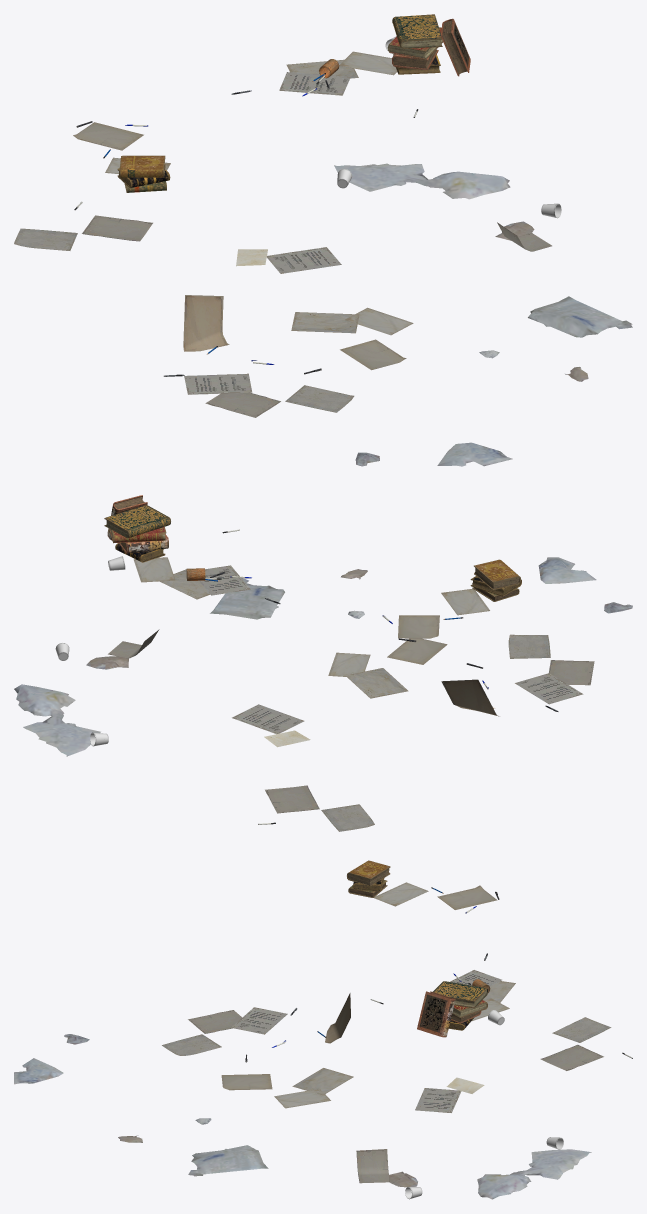
File: sm39_032_weskerdeskset01.fbx
3 renders of one model, top to bottom at view 1: azimuth 30°, elevation 25°; view 2: azimuth 150°, elevation 25°; view 3: azimuth 270°, elevation 25°, orthographic. The views are drawn at different scales.
Parts seen in each view (by area): view 1: LOD_1_Group_0_Sub_5__sm20_001_WastePaper01A_A_Mat, LOD_1_Group_0_Sub_3__sm36_011_Document01A_A_Mat, LOD_1_Group_4_Sub_1__sm7x_ItemCommon_Document01A_A_Mat, LOD_1_Group_0_Sub_6__sm36_001_BookSet01A_A_Mat, LOD_1_Group_5_Sub_1__sm7x_ItemCommon_Document01A_A_Mat, LOD_1_Group_6_Sub_1__sm36_001_BookSet01A_A_Mat, LOD_1_Group_4_Sub_2__sm36_011_Document01A_A_Mat, LOD_1_Group_3_Sub_1__sm36_011_Document01A_A_Mat; view 2: LOD_1_Group_0_Sub_5__sm20_001_WastePaper01A_A_Mat, LOD_1_Group_4_Sub_1__sm7x_ItemCommon_Document01A_A_Mat, LOD_1_Group_0_Sub_3__sm36_011_Document01A_A_Mat, LOD_1_Group_0_Sub_6__sm36_001_BookSet01A_A_Mat, LOD_1_Group_5_Sub_1__sm7x_ItemCommon_Document01A_A_Mat, LOD_1_Group_3_Sub_1__sm36_011_Document01A_A_Mat, LOD_1_Group_6_Sub_1__sm36_001_BookSet01A_A_Mat, LOD_1_Group_4_Sub_2__sm36_011_Document01A_A_Mat; view 3: LOD_1_Group_0_Sub_5__sm20_001_WastePaper01A_A_Mat, LOD_1_Group_4_Sub_1__sm7x_ItemCommon_Document01A_A_Mat, LOD_1_Group_0_Sub_3__sm36_011_Document01A_A_Mat, LOD_1_Group_0_Sub_6__sm36_001_BookSet01A_A_Mat, LOD_1_Group_5_Sub_1__sm7x_ItemCommon_Document01A_A_Mat, LOD_1_Group_3_Sub_1__sm36_011_Document01A_A_Mat, LOD_1_Group_6_Sub_1__sm36_001_BookSet01A_A_Mat, LOD_1_Group_4_Sub_2__sm36_011_Document01A_A_Mat.
Boxes of the visible parts, x1,y1,x2,y2 form: LOD_1_Group_0_Sub_5__sm20_001_WastePaper01A_A_Mat: (334,163,632,466); LOD_1_Group_0_Sub_3__sm36_011_Document01A_A_Mat: (183,295,413,370); LOD_1_Group_4_Sub_1__sm7x_ItemCommon_Document01A_A_Mat: (14,72,551,273); LOD_1_Group_0_Sub_6__sm36_001_BookSet01A_A_Mat: (387,14,470,76); LOD_1_Group_5_Sub_1__sm7x_ItemCommon_Document01A_A_Mat: (184,373,354,417); LOD_1_Group_6_Sub_1__sm36_001_BookSet01A_A_Mat: (117,155,170,192); LOD_1_Group_4_Sub_2__sm36_011_Document01A_A_Mat: (286,51,397,78); LOD_1_Group_3_Sub_1__sm36_011_Document01A_A_Mat: (73,122,170,174); LOD_1_Group_0_Sub_5__sm20_001_WastePaper01A_A_Mat: (14,557,632,756); LOD_1_Group_4_Sub_1__sm7x_ItemCommon_Document01A_A_Mat: (108,565,374,831); LOD_1_Group_0_Sub_3__sm36_011_Document01A_A_Mat: (328,638,499,716); LOD_1_Group_0_Sub_6__sm36_001_BookSet01A_A_Mat: (104,495,170,562); LOD_1_Group_5_Sub_1__sm7x_ItemCommon_Document01A_A_Mat: (508,634,594,704); LOD_1_Group_3_Sub_1__sm36_011_Document01A_A_Mat: (398,588,489,638); LOD_1_Group_6_Sub_1__sm36_001_BookSet01A_A_Mat: (470,559,521,601); LOD_1_Group_4_Sub_2__sm36_011_Document01A_A_Mat: (133,557,210,599); LOD_1_Group_0_Sub_5__sm20_001_WastePaper01A_A_Mat: (14,1034,591,1199); LOD_1_Group_4_Sub_1__sm7x_ItemCommon_Document01A_A_Mat: (356,970,611,1183); LOD_1_Group_0_Sub_3__sm36_011_Document01A_A_Mat: (221,993,353,1108); LOD_1_Group_0_Sub_6__sm36_001_BookSet01A_A_Mat: (417,981,488,1037); LOD_1_Group_5_Sub_1__sm7x_ItemCommon_Document01A_A_Mat: (162,1007,287,1055); LOD_1_Group_3_Sub_1__sm36_011_Document01A_A_Mat: (374,882,497,909); LOD_1_Group_6_Sub_1__sm36_001_BookSet01A_A_Mat: (347,860,390,897); LOD_1_Group_4_Sub_2__sm36_011_Document01A_A_Mat: (471,981,515,1021).
Size of the model in its own units: 2.69 by 1.11 by 3.68.
